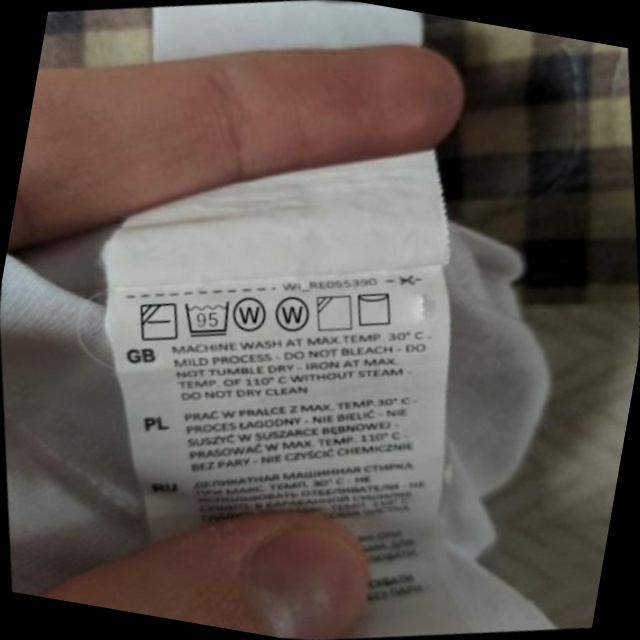95C: (174, 287, 242, 349)
dry_flat_in_shade: (128, 291, 188, 352)
line_dry: (346, 280, 404, 337)
shade_dry: (306, 284, 363, 342)
wet_clean: (224, 284, 279, 342), (265, 286, 320, 343)
